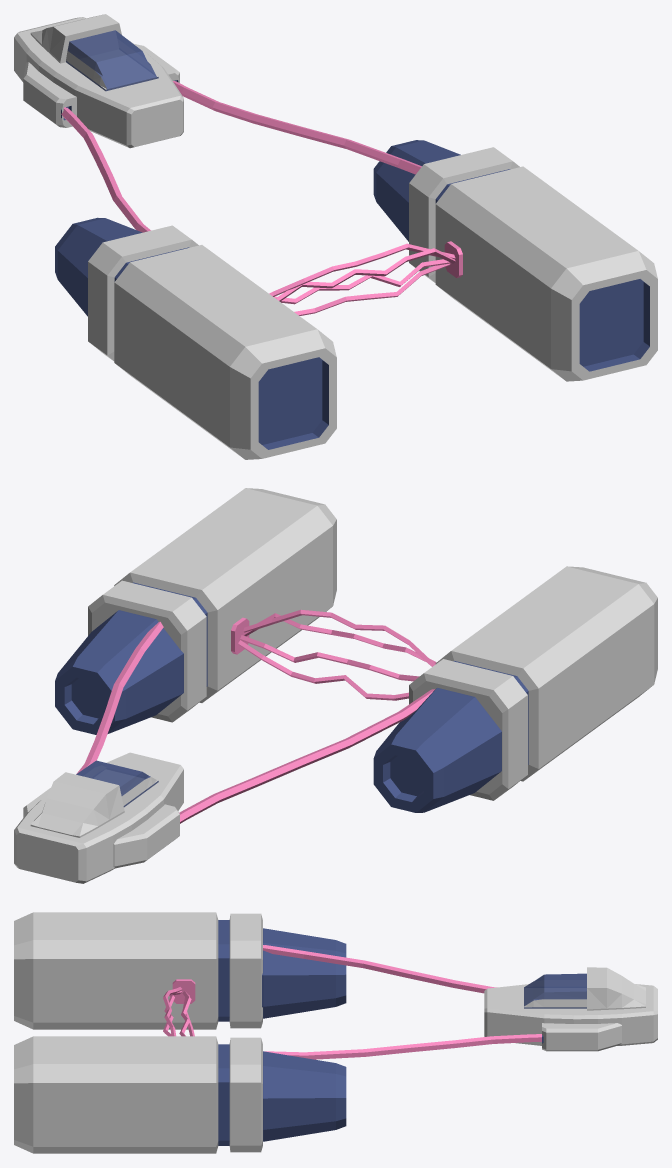
Rendered from hull_pod.obj.
3 renders of one model, top to bottom at view 1: azimuth 30°, elevation 25°; view 2: azimuth 150°, elevation 25°; view 3: azimuth 270°, elevation 25°, orthographic. The views are drawn at different scales.
Bounding box in the file's own units: 2.59 × 0.737 × 4.3.
